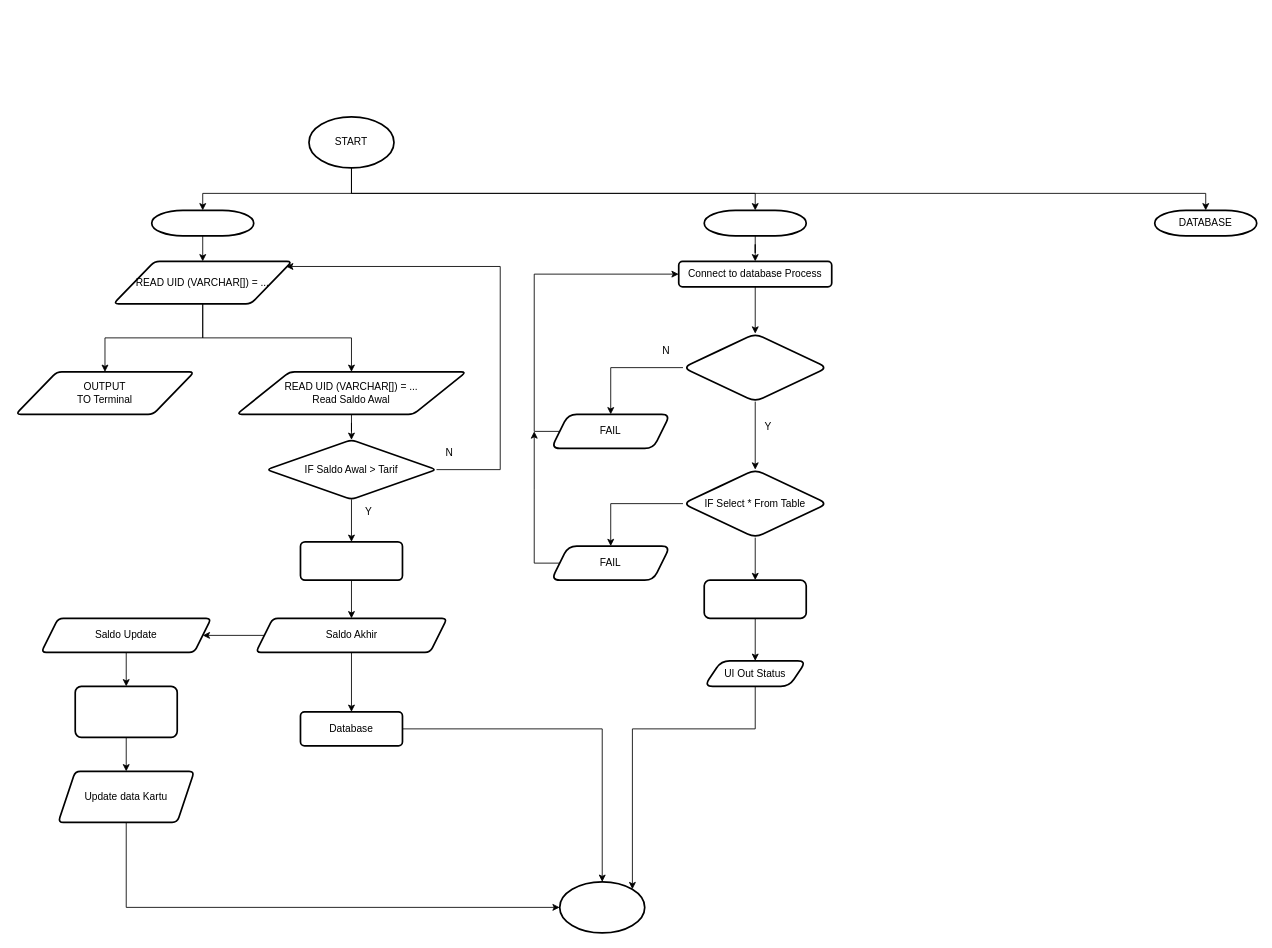
Some shapes in this 1272 by 948 pixel diagram are drawn without their labels. The shapes that lost their labels are listed below. From the top down, each one's centre as x and y in pixels, then its label:
[202,222]: STM32
[755,222]: UI
[755,367]: IF config !=NULL
[351,561]: = Saldo awal - Tarif
[755,599]: UI Program Process & send UI
[126,711]: Simpan ke Buffer
[601,907]: END
